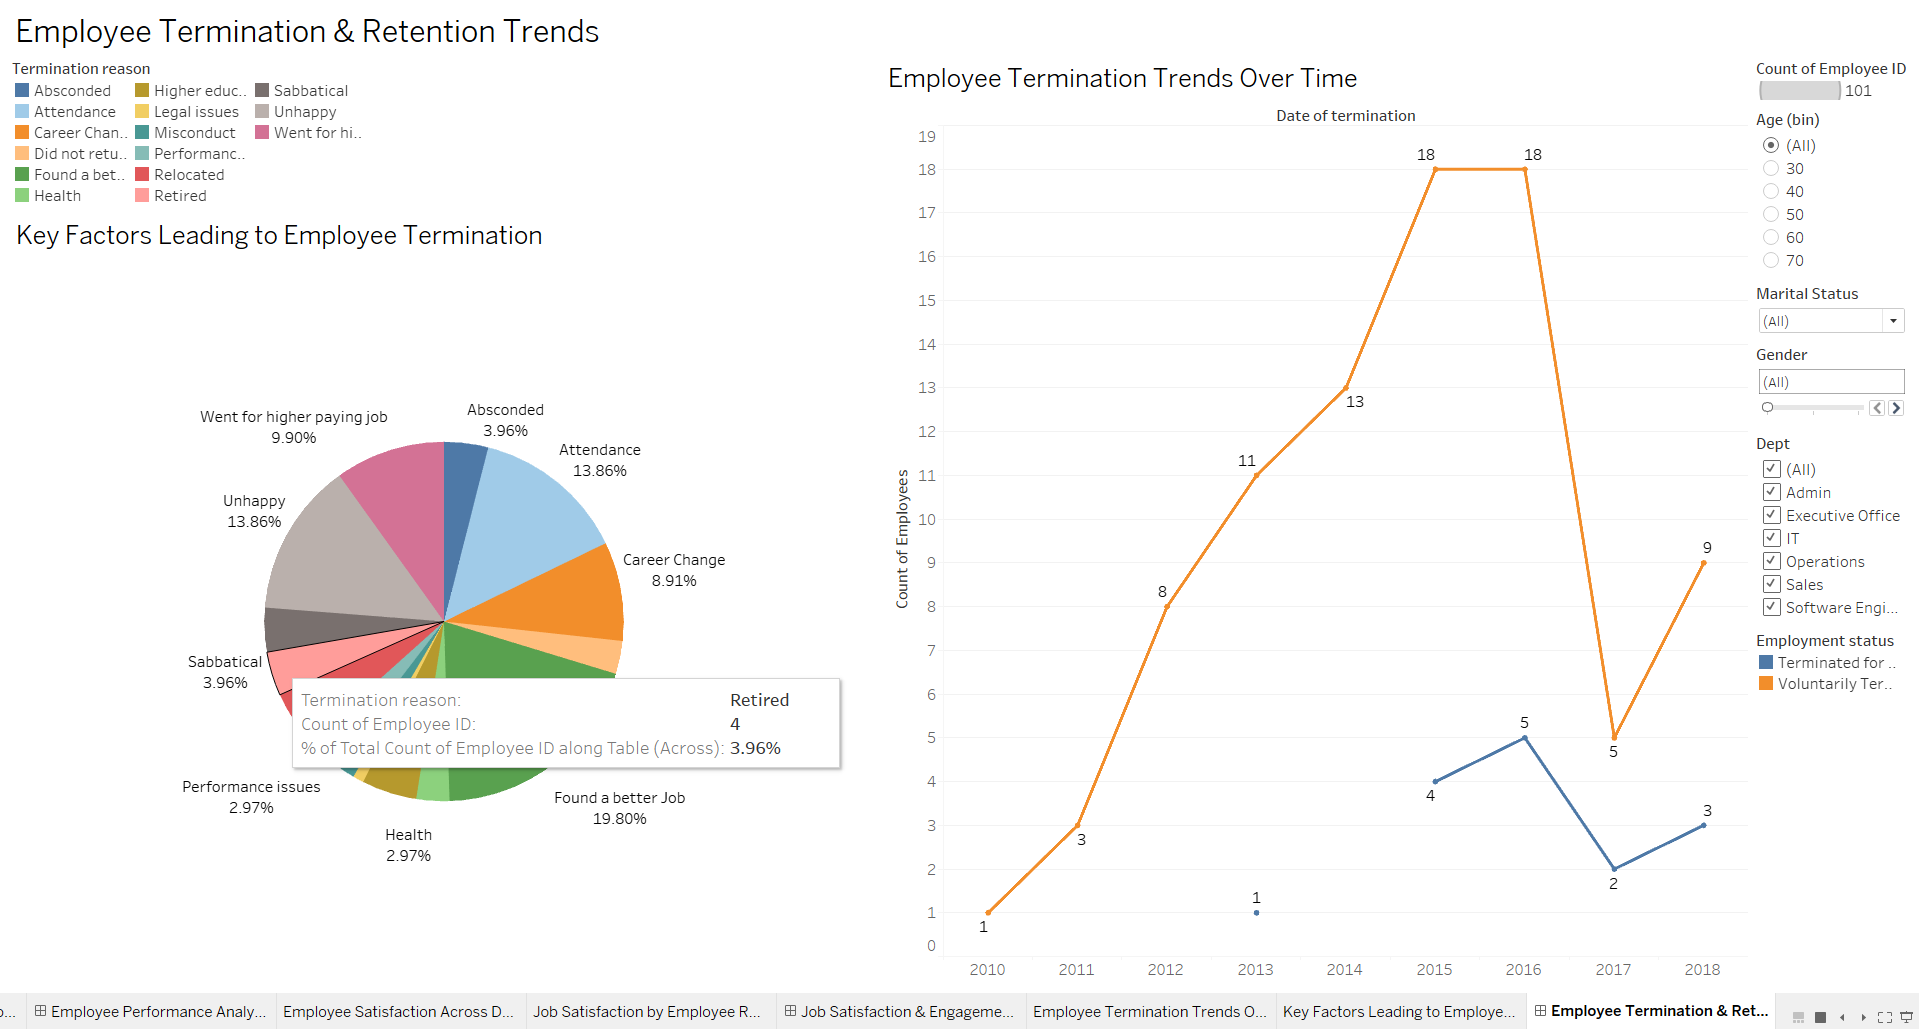

The dashboard page shown, as its layout file describes it:
{"tool":"tableau","page":{"name":"Employee Termination & Retention Trends","canvas":[1000,1000],"units":"permille","ordinal":1},"visuals":[{"type":"title","box":[7.7,10.1,984.7,58.1]},{"type":"legend","title":"Key Factors Leading to Employee Termination","param":"[federated.0c867ru0xy12iw1aba2a404u1c0z].[none:Termination reason:nk]","box":[7.7,68.3,415.8,155.6]},{"type":"worksheet","title":"Employee Termination Trends Over Time","mark":"Line","rows":["Employee ID"],"cols":["Date of termination"],"box":[423.5,68.3,415.9,921.6]},{"type":"legend","title":"Key Factors Leading to Employee Termination","param":"[federated.0c867ru0xy12iw1aba2a404u1c0z].[cnt:Employee ID:qk]","box":[839.4,68.3,153,64.5]},{"type":"filter","title":"Employee Termination Trends Over Time","param":"[federated.0c867ru0xy12iw1aba2a404u1c0z].[none:Age (bin):ok]","box":[839.4,132.7,153,220]},{"type":"worksheet","title":"Key Factors Leading to Employee Termination","mark":"Pie","box":[7.7,223.9,415.8,766]},{"type":"filter","title":"Employee Termination Trends Over Time","param":"[federated.0c867ru0xy12iw1aba2a404u1c0z].[none:Marital Status:nk]","box":[839.4,352.7,153,77.1]},{"type":"filter","title":"Employee Termination Trends Over Time","param":"[federated.0c867ru0xy12iw1aba2a404u1c0z].[none:Gender:nk]","box":[839.4,429.8,153,112.5]},{"type":"filter","title":"Employee Termination Trends Over Time","param":"[federated.0c867ru0xy12iw1aba2a404u1c0z].[none:Dept:nk]","box":[839.4,542.3,153,249.1]},{"type":"legend","title":"Employee Termination Trends Over Time","param":"[federated.0c867ru0xy12iw1aba2a404u1c0z].[none:Employment status:nk]","box":[839.4,791.4,153,91]}]}

Visuals, with their boxes on the dashboard's canvas, which has no fixed pixel size, in thousandths of its width and height (x1, y1, x2, y2). These are canvas units, not pixel positions in the 1919x1029 screenshot, which may show the page scaled, cropped or inside an application window:
title: crop(8, 10, 992, 68)
"Key Factors Leading to Employee Termination" legend: crop(8, 68, 424, 224)
"Employee Termination Trends Over Time" worksheet (Line marks): crop(424, 68, 839, 990)
"Key Factors Leading to Employee Termination" legend: crop(839, 68, 992, 133)
"Employee Termination Trends Over Time" filter: crop(839, 133, 992, 353)
"Key Factors Leading to Employee Termination" worksheet (Pie marks): crop(8, 224, 424, 990)
"Employee Termination Trends Over Time" filter: crop(839, 353, 992, 430)
"Employee Termination Trends Over Time" filter: crop(839, 430, 992, 542)
"Employee Termination Trends Over Time" filter: crop(839, 542, 992, 791)
"Employee Termination Trends Over Time" legend: crop(839, 791, 992, 882)
